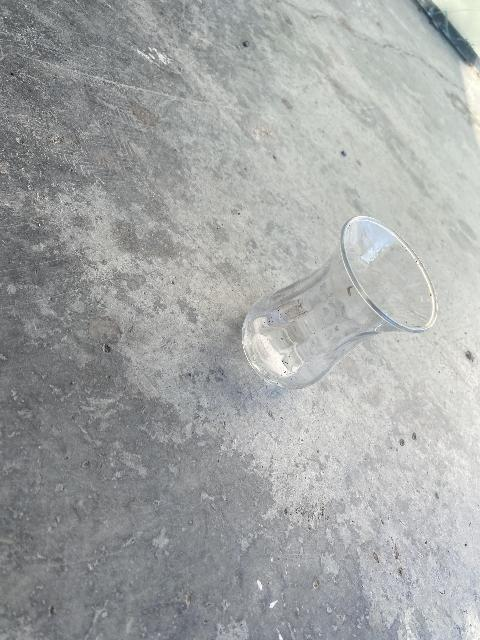Cam: (238, 212, 451, 390)
